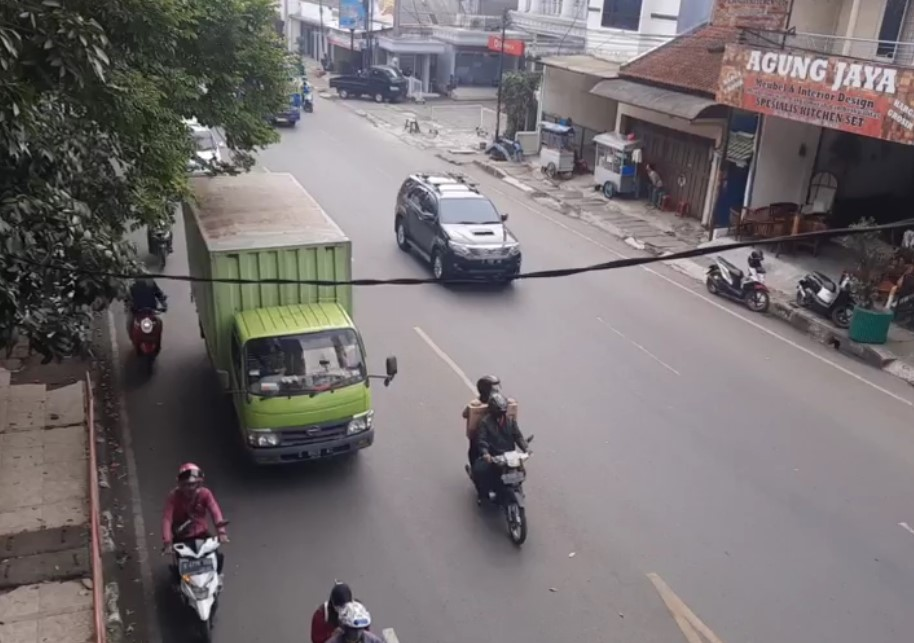mobil: (237, 325, 374, 475), (431, 195, 524, 291)
motor: (456, 373, 541, 552), (158, 458, 239, 637), (110, 263, 170, 374)
